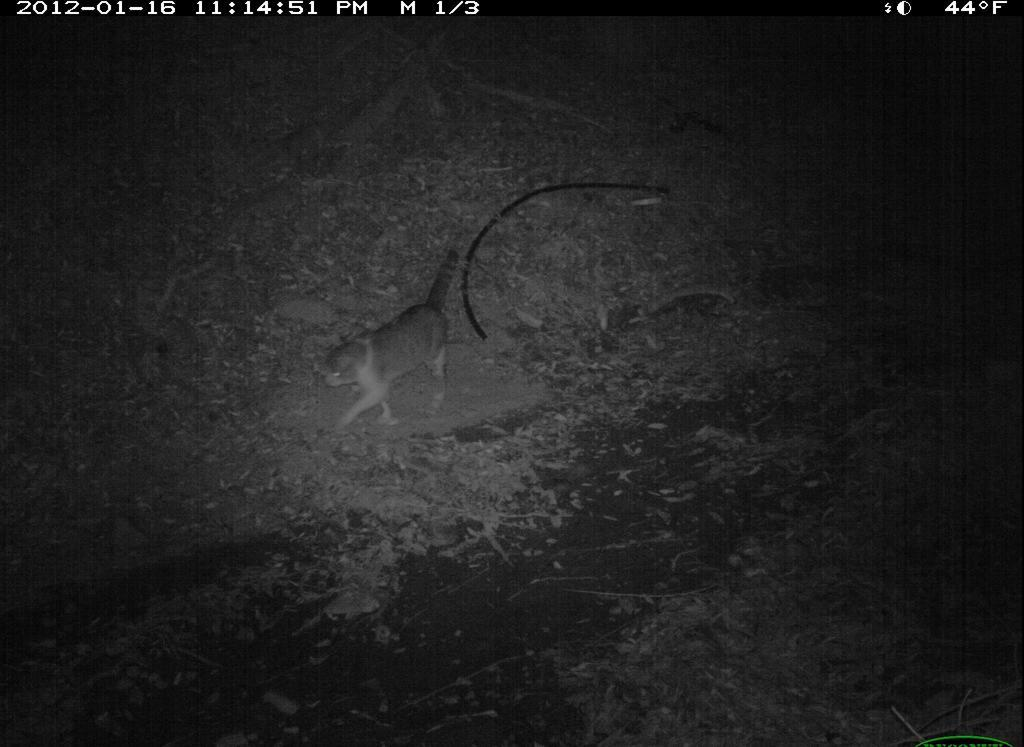cat: (316, 247, 465, 434)
